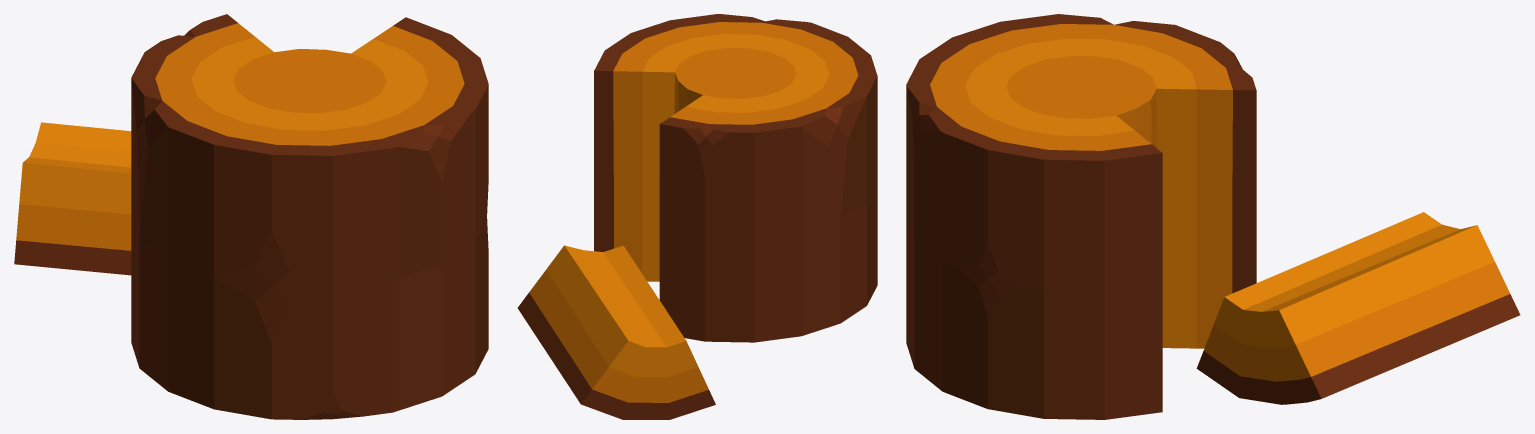
The model's file is Tree log_26.fbx.
The picture shows the model from 3 angles, left to right: view 1: azimuth 30°, elevation 25°; view 2: azimuth 150°, elevation 25°; view 3: azimuth 270°, elevation 25°; orthographic projection. The views are drawn at different scales.
Visible parts, largest first — view 1: Circle.434, Circle.435; view 2: Circle.434, Circle.435; view 3: Circle.434, Circle.435.
Part boxes in pixels (x1,y1,x2,y2): Circle.434: [131, 14, 488, 419]; Circle.435: [14, 122, 131, 275]; Circle.434: [594, 14, 877, 342]; Circle.435: [517, 245, 715, 419]; Circle.434: [906, 14, 1256, 419]; Circle.435: [1196, 212, 1520, 404].
Size of the model in its own units: 23.35 by 20.33 by 41.28.
